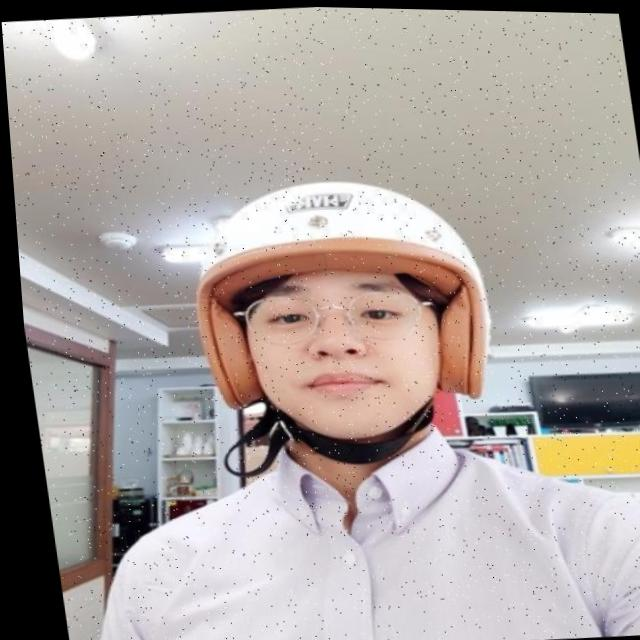helmet: (173, 165, 504, 487)
